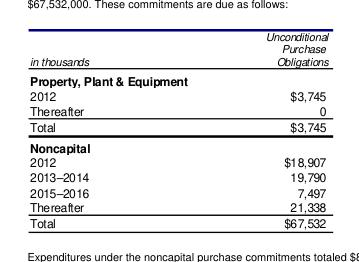table: (28, 28, 327, 230)
table column: (176, 28, 327, 230), (28, 28, 176, 230)
table column header: (28, 28, 327, 69)
table projected row header: (28, 69, 327, 87), (28, 136, 327, 154)
table row: (28, 28, 327, 69), (28, 117, 327, 136), (28, 69, 327, 87), (28, 136, 327, 154), (28, 183, 327, 199), (28, 214, 327, 230), (28, 87, 327, 102), (28, 102, 327, 117), (28, 168, 327, 183), (28, 199, 327, 214), (28, 154, 327, 168)
